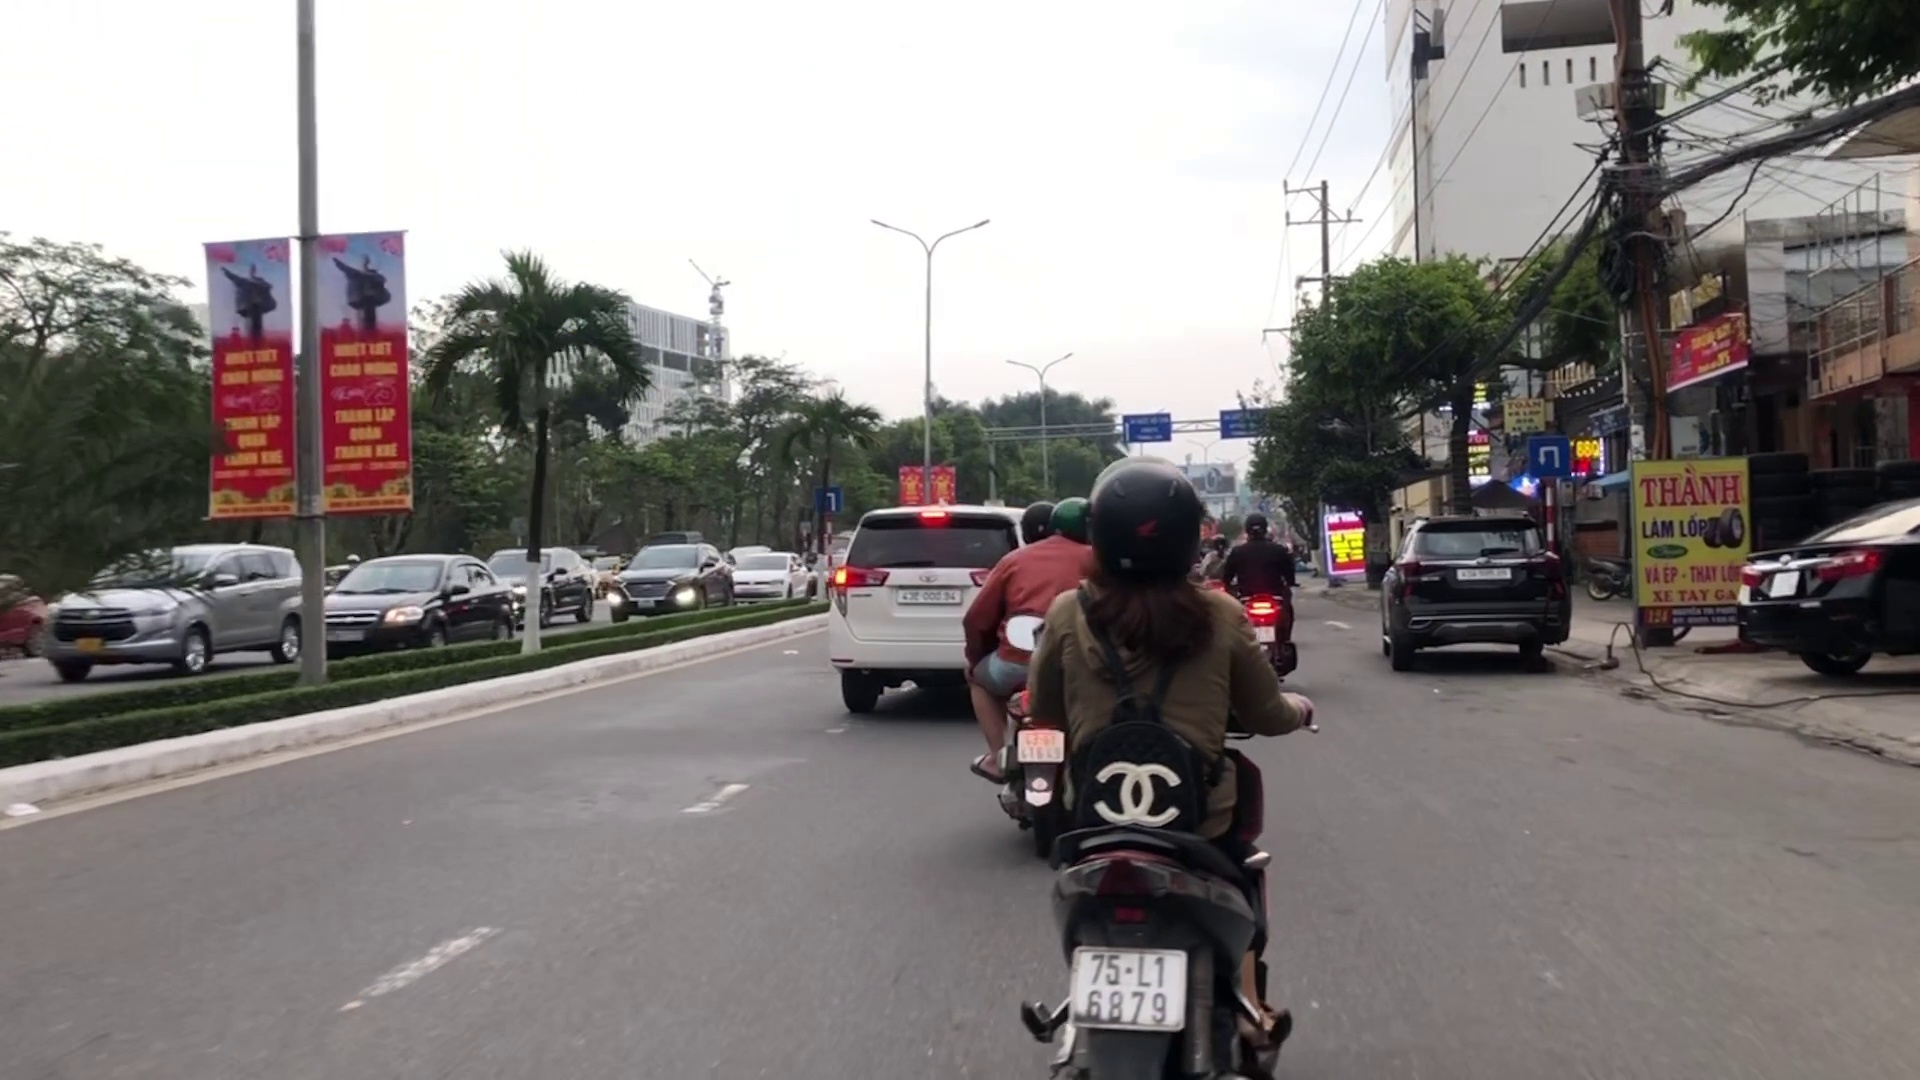Bien khac: (1532, 433, 1568, 477), (814, 488, 839, 509)
